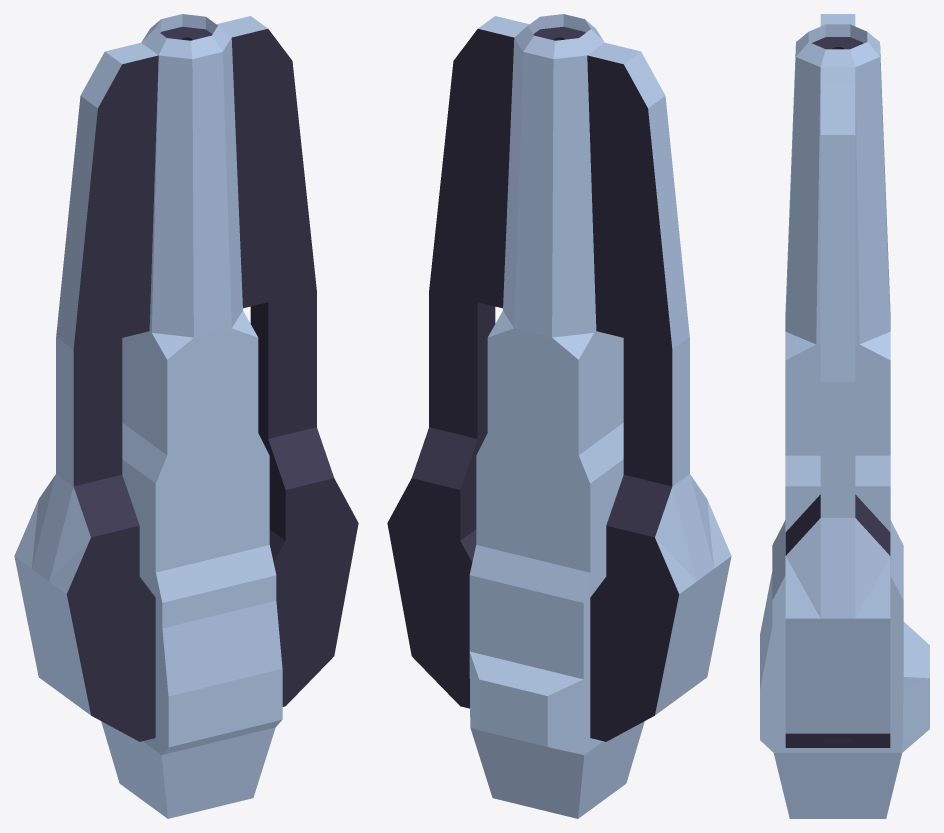
File: Destroyer.fbx
3 views of the same model, side by side, from view 1: azimuth 30°, elevation 25°; view 2: azimuth 150°, elevation 25°; view 3: azimuth 270°, elevation 25° (orthographic).
Visible parts, largest first — view 1: Destroyer; view 2: Destroyer; view 3: Destroyer.
Part boxes in pixels (x1,y1,x2,y2): Destroyer: (14,14,358,818); Destroyer: (387,14,731,818); Destroyer: (760,14,929,818).
Bounding box in the file's own units: 336 × 840 × 170.
